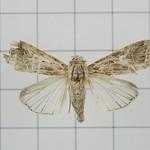Spodoptera litura: (2, 40, 150, 123)
